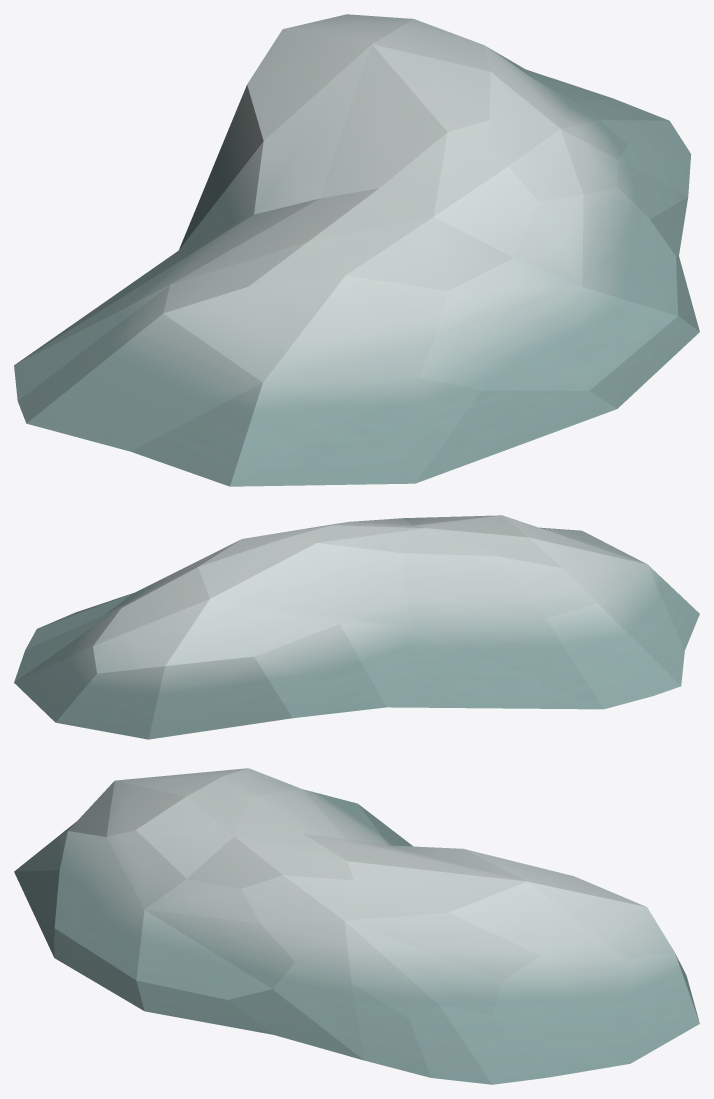
File: snow_mound_C.obj
3 views of the same model, one above another, from view 1: azimuth 30°, elevation 25°; view 2: azimuth 150°, elevation 25°; view 3: azimuth 270°, elevation 25° (orthographic). The views are drawn at different scales.
Visible parts, largest first — view 1: snow_mound_C; view 2: snow_mound_C; view 3: snow_mound_C.
Boxes of the visible parts, x1,y1,x2,y2 form: snow_mound_C: [14, 14, 699, 486]; snow_mound_C: [14, 515, 699, 739]; snow_mound_C: [14, 768, 699, 1084].
Size of the model in its own units: 5.02 by 0.8121 by 4.85.
